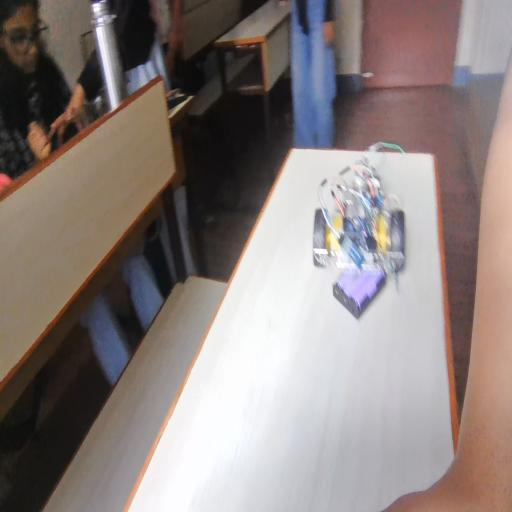car: (310, 165, 431, 281)
